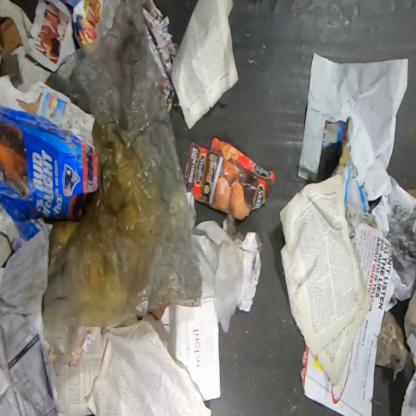cardboard: (0, 75, 99, 252), (184, 136, 276, 220), (315, 116, 370, 213), (0, 0, 24, 55)
soft_plastic: (41, 0, 203, 357)
